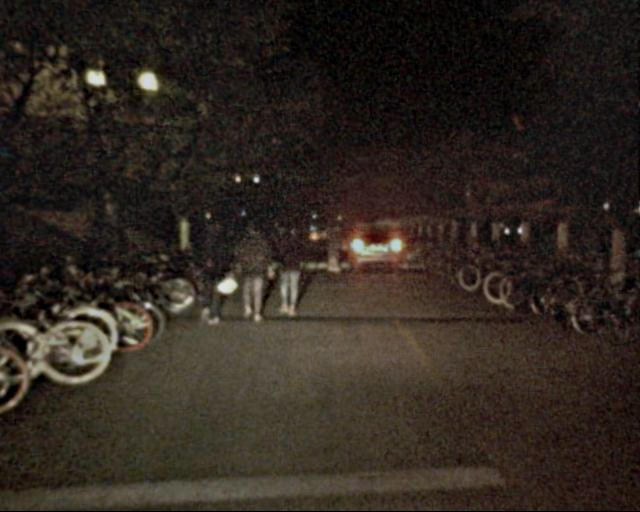person: (198, 213, 235, 325), (273, 214, 306, 319), (238, 224, 268, 324), (323, 227, 345, 272)
